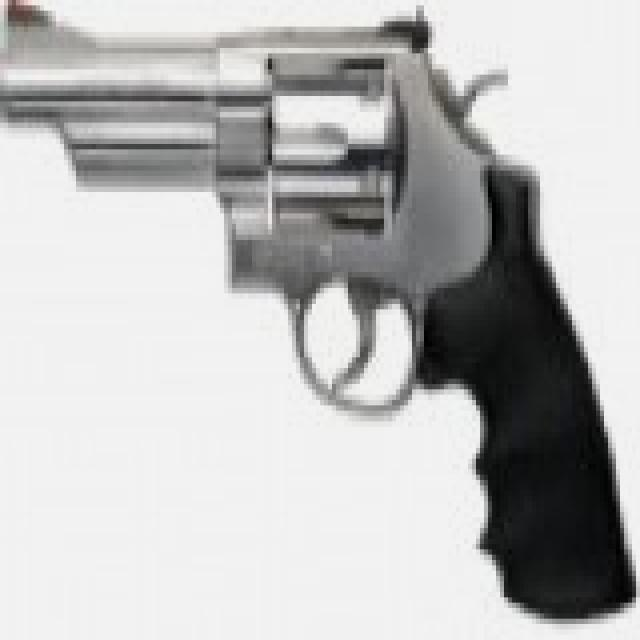pistol: (12, 6, 640, 614)
